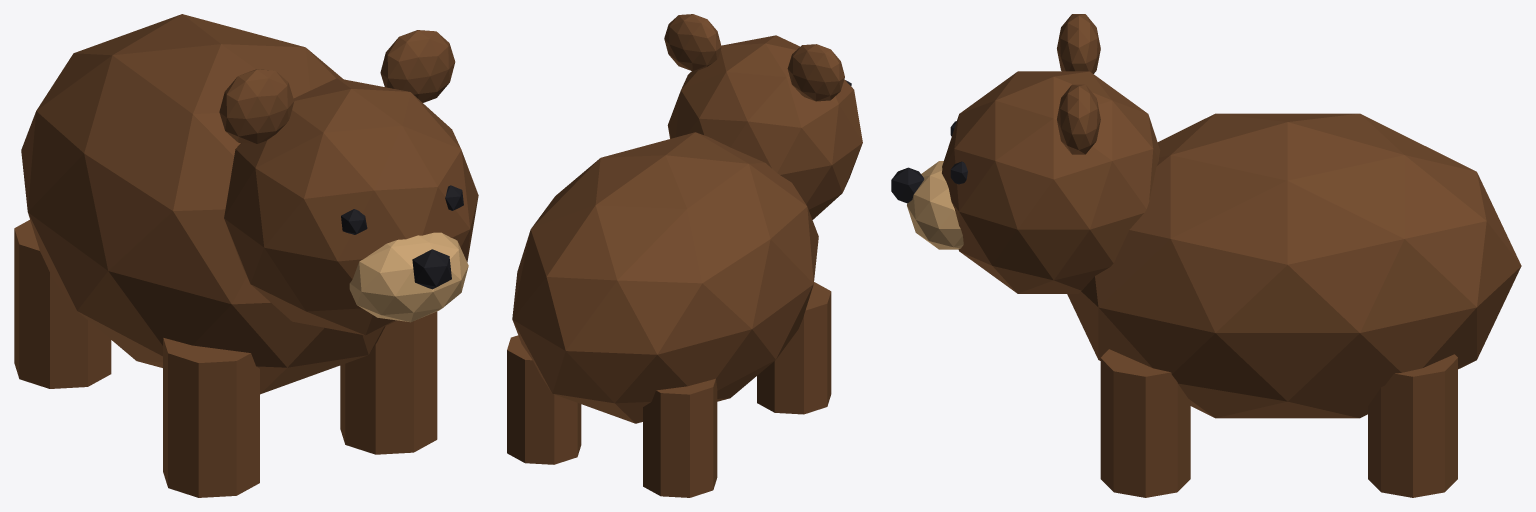
File: Bear.fbx
3 views of the same model, side by side, from view 1: azimuth 30°, elevation 25°; view 2: azimuth 150°, elevation 25°; view 3: azimuth 270°, elevation 25° (orthographic). The views are drawn at different scales.
Parts seen in each view (by area): view 1: Fur, Muzzle, Nose, Eyes; view 2: Fur; view 3: Fur, Muzzle, Nose.
Part boxes in pixels (<box>): Fur: <box>14,14,478,497</box>; Muzzle: <box>349,232,468,322</box>; Nose: <box>412,249,451,289</box>; Eyes: <box>341,185,463,234</box>; Fur: <box>507,14,862,497</box>; Fur: <box>942,14,1521,497</box>; Muzzle: <box>907,161,963,249</box>; Nose: <box>891,167,924,203</box>.
Bounding box in the file's own units: 1.9 × 2.57 × 3.77.
